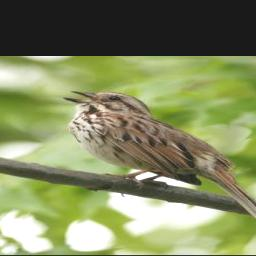Sparrow: (58, 88, 256, 227)
